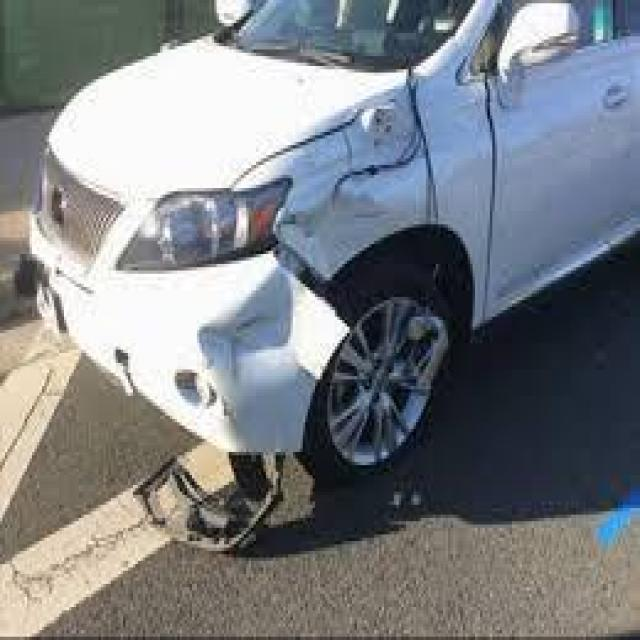damaged: (270, 82, 450, 268), (199, 267, 352, 455)
